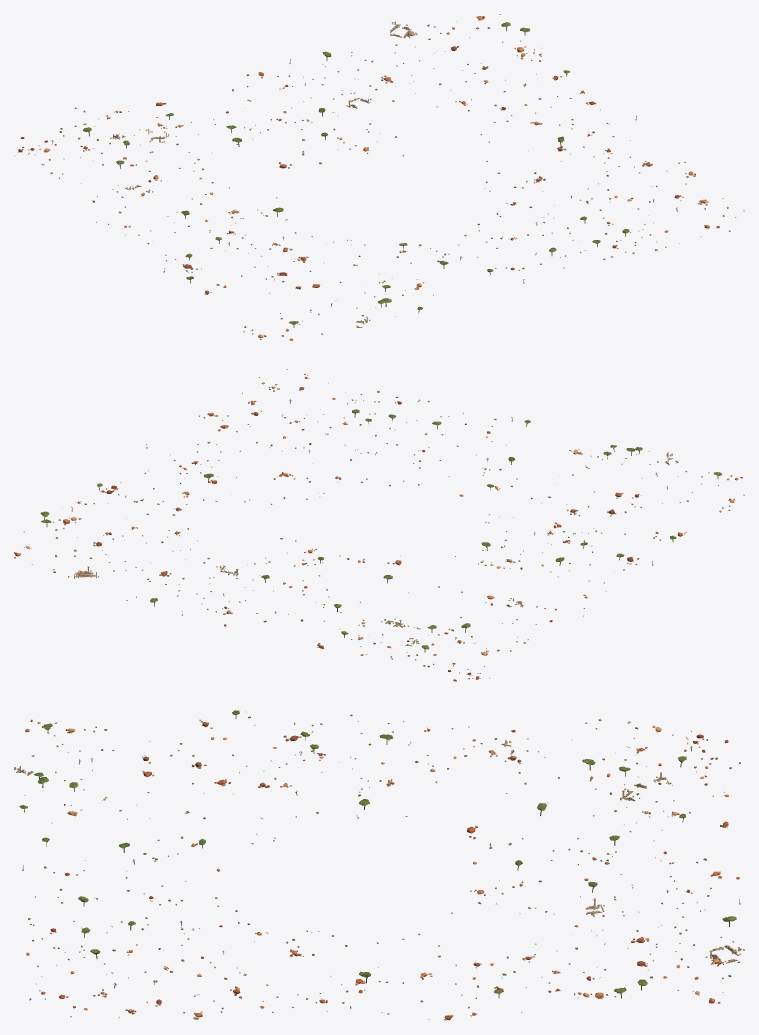
Rendered from dressing.glb.
The picture shows the model from 3 angles, top to bottom: view 1: azimuth 30°, elevation 25°; view 2: azimuth 150°, elevation 25°; view 3: azimuth 270°, elevation 25°; orthographic projection. The views are drawn at different scales.
Parts seen in each view (by area): view 1: Dressing; view 2: Dressing; view 3: Dressing.
Part boxes in pixels (bbox=[...]): Dressing: bbox=[14, 14, 744, 340]; Dressing: bbox=[14, 369, 744, 681]; Dressing: bbox=[14, 710, 744, 1020].
Bounding box in the file's own units: 385 × 29.36 × 392.
